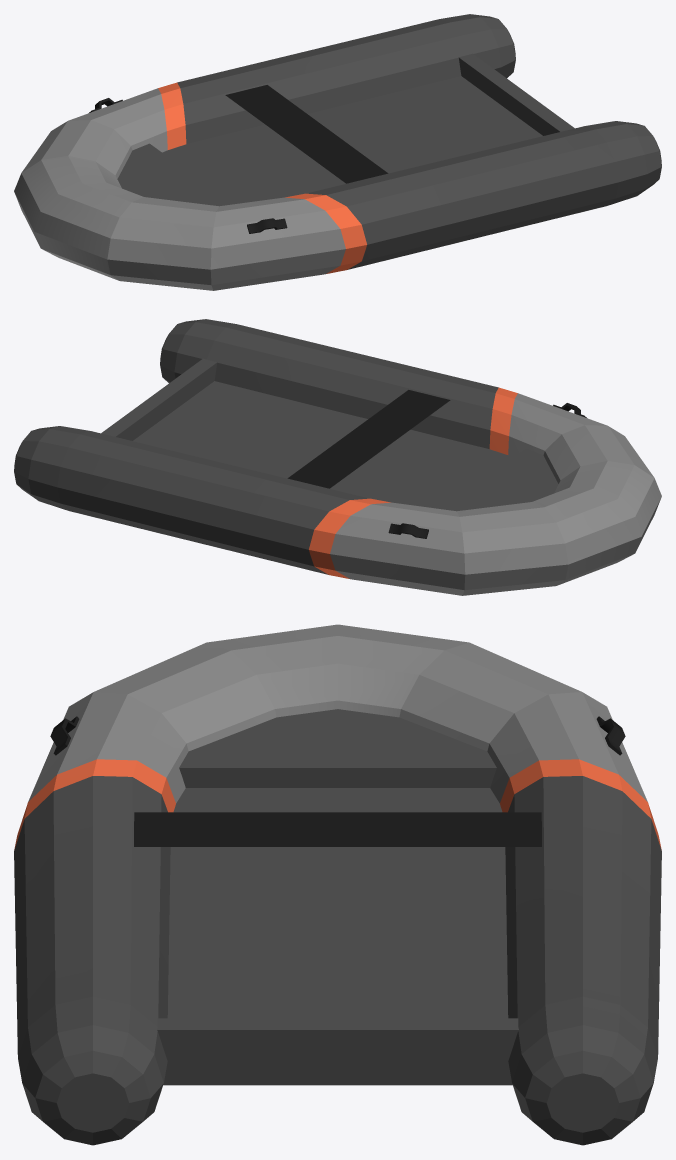
The model's file is fisher_10.FBX.
3 renders of one model, top to bottom at view 1: azimuth 30°, elevation 25°; view 2: azimuth 150°, elevation 25°; view 3: azimuth 270°, elevation 25°, orthographic. The views are drawn at different scales.
Visible parts, largest first — view 1: fisher_10; view 2: fisher_10; view 3: fisher_10.
Boxes of the visible parts, left/top/right/bottom form: fisher_10: left=14, top=14, right=661, bottom=290; fisher_10: left=14, top=319, right=661, bottom=595; fisher_10: left=14, top=624, right=661, bottom=1145.
Size of the model in its own units: 199 by 25.68 by 123.
